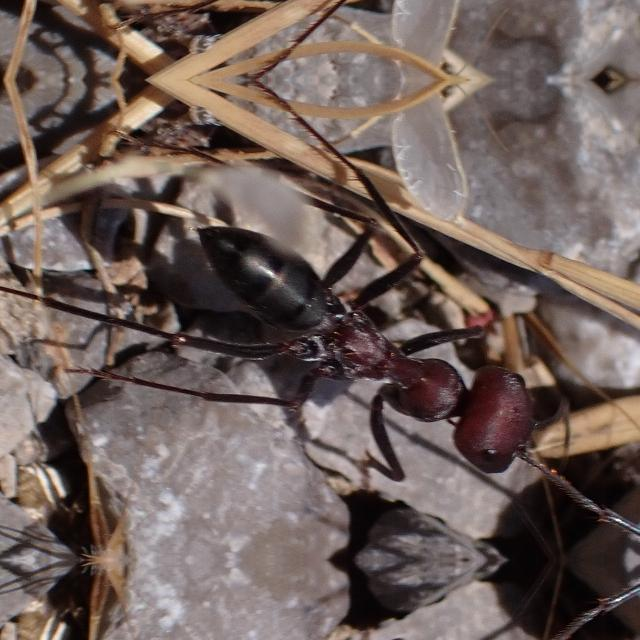Cataglyphis: (143, 190, 609, 510)
